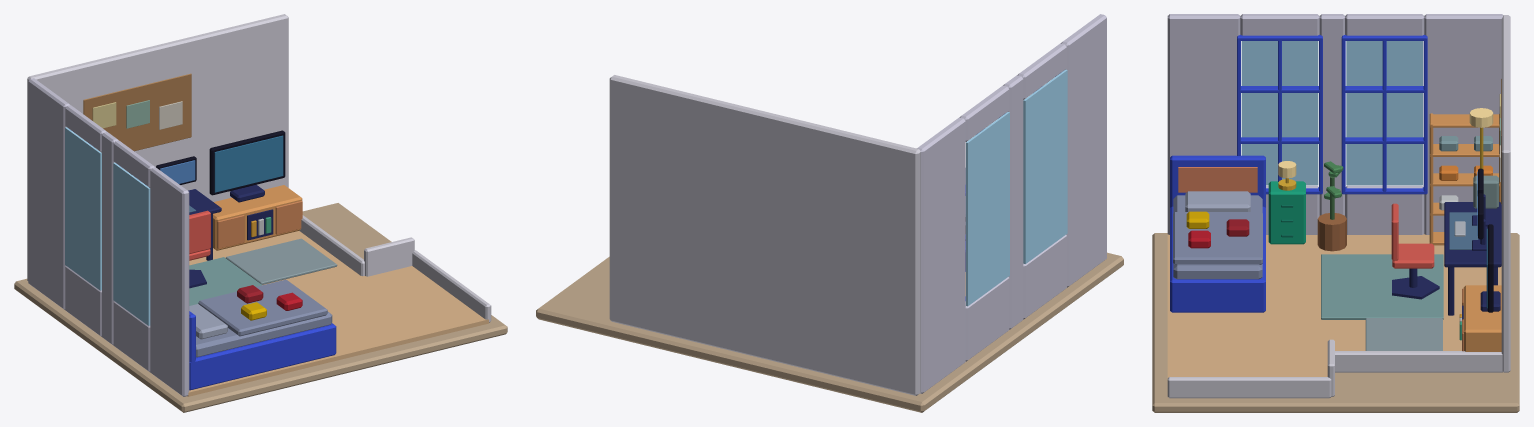
The model's file is room_miniature.glb.
The picture shows the model from 3 angles, left to right: view 1: azimuth 30°, elevation 25°; view 2: azimuth 150°, elevation 25°; view 3: azimuth 270°, elevation 25°; orthographic projection. The views are drawn at different scales.
Parts seen in each view (by area): view 1: room_miniature; view 2: room_miniature; view 3: room_miniature.
Part boxes in pixels (<box>): room_miniature: <box>14,14,507,412</box>; room_miniature: <box>536,14,1123,412</box>; room_miniature: <box>1152,14,1519,412</box>.
Bounding box in the file's own units: 0.224 × 0.141 × 0.202.
